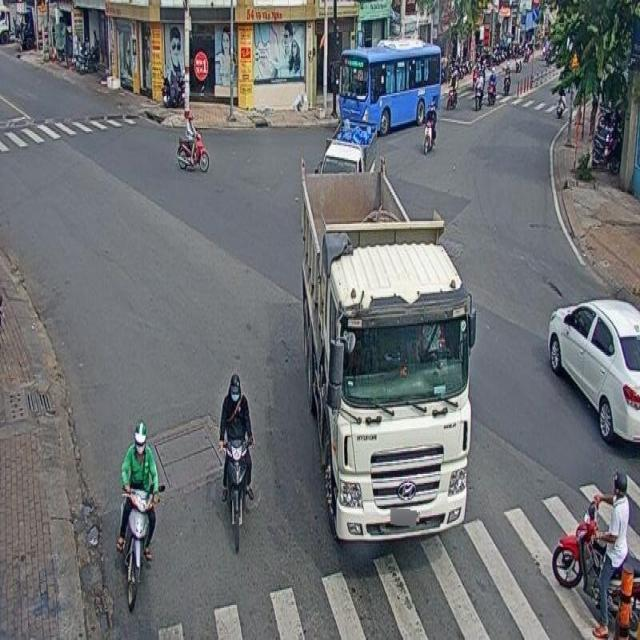bus: (338, 38, 440, 130)
car: (546, 299, 640, 442)
motorcycle: (551, 472, 640, 620), (218, 372, 254, 553), (176, 114, 210, 174), (423, 100, 437, 154)
truck: (299, 167, 466, 548)
